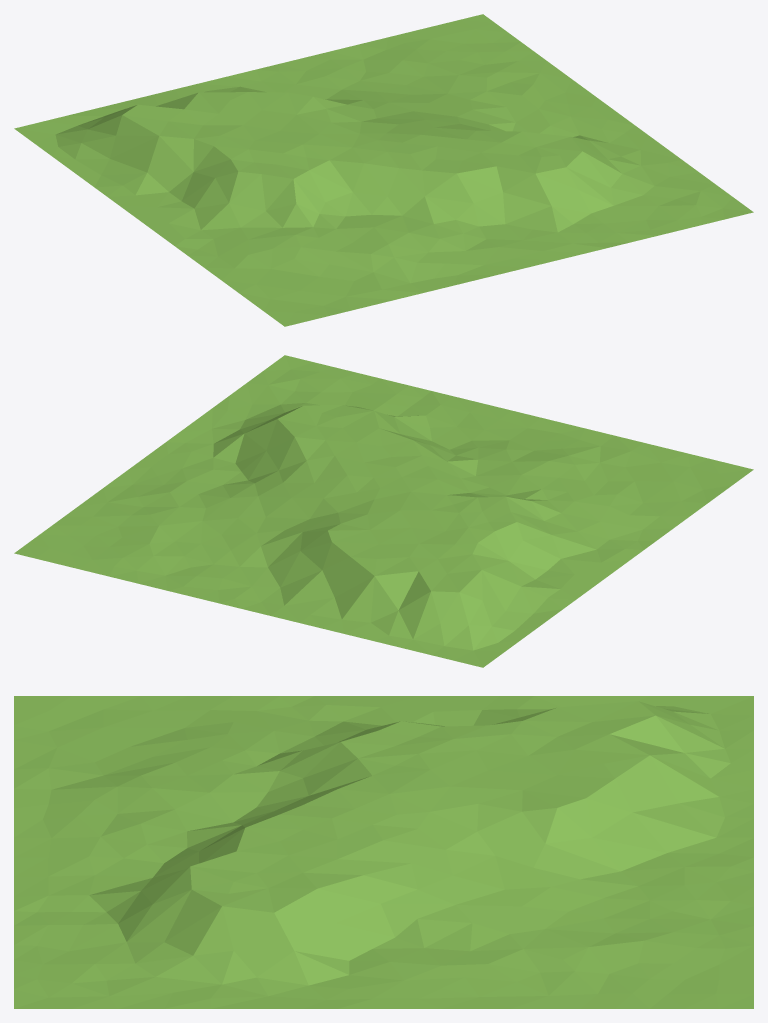
Rendered from MT_Terrain_M_d_11_LOD.fbx.
The picture shows the model from 3 angles, top to bottom: view 1: azimuth 30°, elevation 25°; view 2: azimuth 150°, elevation 25°; view 3: azimuth 270°, elevation 25°; orthographic projection. The views are drawn at different scales.
Parts seen in each view (by area): view 1: MT_Terrain_M_d_11_LOD0; view 2: MT_Terrain_M_d_11_LOD0; view 3: MT_Terrain_M_d_11_LOD0.
Part boxes in pixels (x1,y1,x2,y2): MT_Terrain_M_d_11_LOD0: (14, 14, 753, 326); MT_Terrain_M_d_11_LOD0: (14, 355, 753, 667); MT_Terrain_M_d_11_LOD0: (14, 696, 753, 1008).
Size of what is drawn, in the model's own units: 5000 by 308 by 5000.
